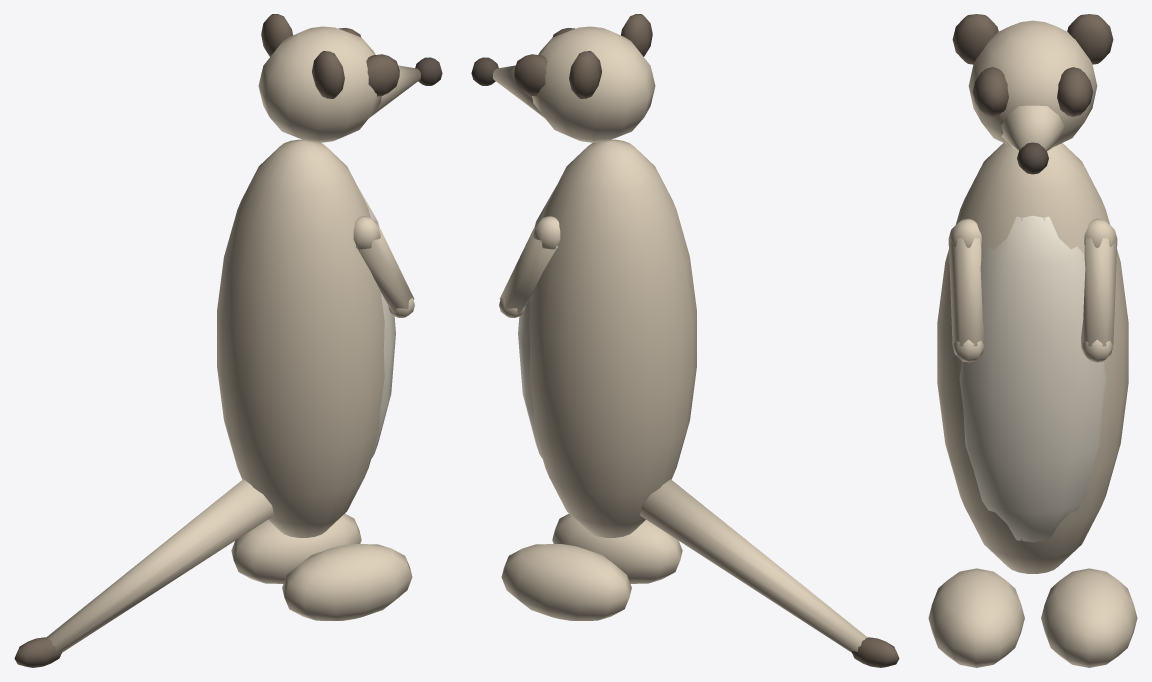
Rendered from meerkat.glb.
The picture shows the model from 3 angles, left to right: view 1: azimuth 30°, elevation 25°; view 2: azimuth 150°, elevation 25°; view 3: azimuth 270°, elevation 25°; orthographic projection. The views are drawn at different scales.
Parts seen in each view (by area): view 1: e, cone, e.018; view 2: e, cone, e.018; view 3: e, cone.
Part boxes in pixels (left/top/right/bottom): e: left=217, top=139, right=414, bottom=620; cone: left=258, top=14, right=442, bottom=142; e.018: left=14, top=479, right=273, bottom=667; e: left=499, top=139, right=696, bottom=620; cone: left=471, top=14, right=655, bottom=142; e.018: left=640, top=479, right=899, bottom=667; e: left=928, top=143, right=1137, bottom=667; cone: left=952, top=14, right=1113, bottom=174.
Size of the model in its own units: 0.68 by 0.865 by 0.26.
